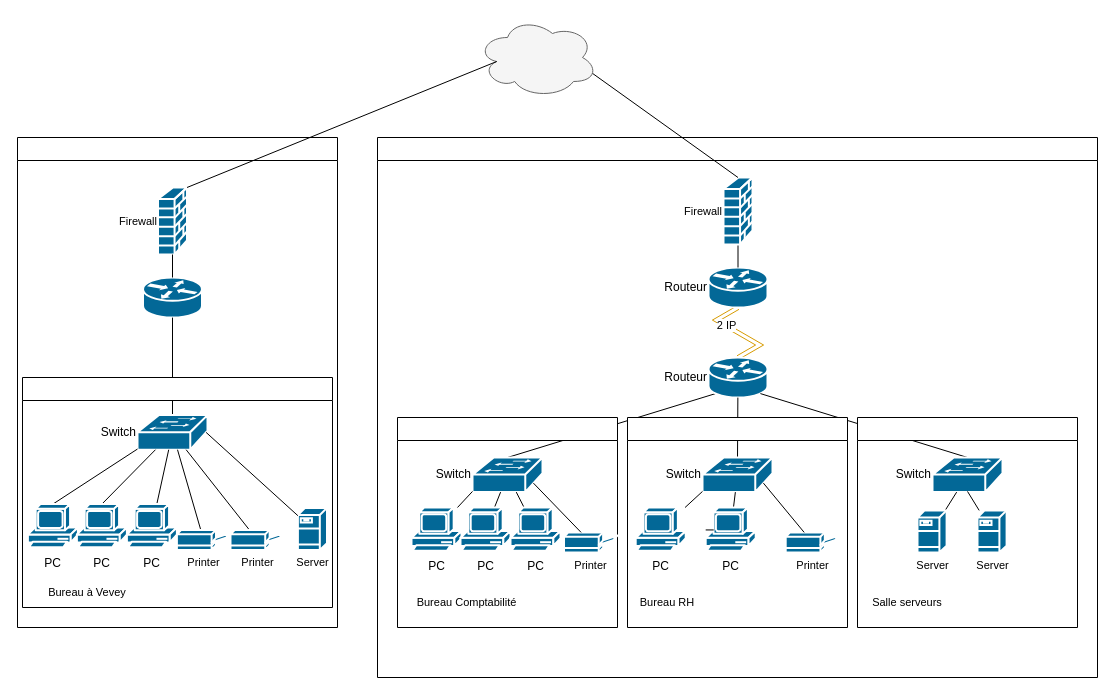
This 1115x695 diagram has some shape labels left out. Each missing label, with the box of its shape:
Internet: (476, 16, 598, 98)
Router: (142, 276, 202, 318)
SITE 1: (16, 136, 338, 628)
SITE 2: (376, 136, 1098, 678)
Sous-réseau A (6 hosts, 1 GW): (22, 376, 332, 608)
Sous-réseau B (4 hosts, 1 GW): (396, 416, 618, 628)
Sous-réseau C (3 hosts, 1 GW): (626, 416, 848, 628)
Sous-réseau D (2 hosts, 1 GW): (856, 416, 1078, 628)
